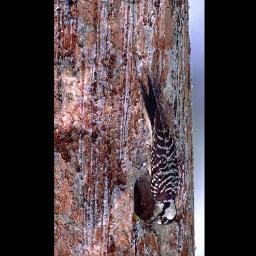Woodpecker: (140, 74, 179, 228)
